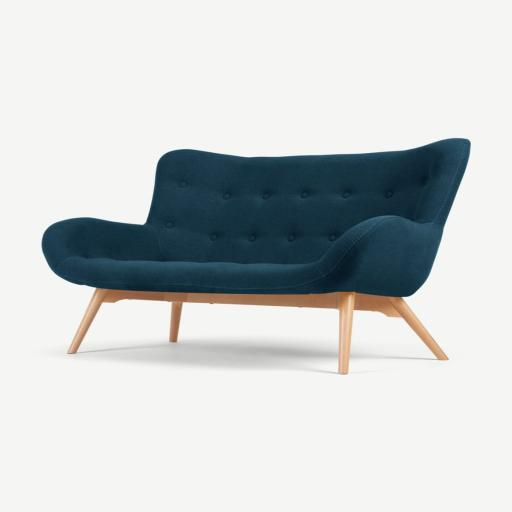back_cushion: (147, 139, 463, 263)
left_arm: (312, 216, 439, 296)
legs: (68, 288, 257, 353), (320, 292, 447, 374), (257, 295, 313, 306), (169, 301, 183, 342)
one-seater: (42, 138, 469, 374)
right_arm: (43, 218, 159, 283)
seat_cushion: (58, 257, 327, 294)
